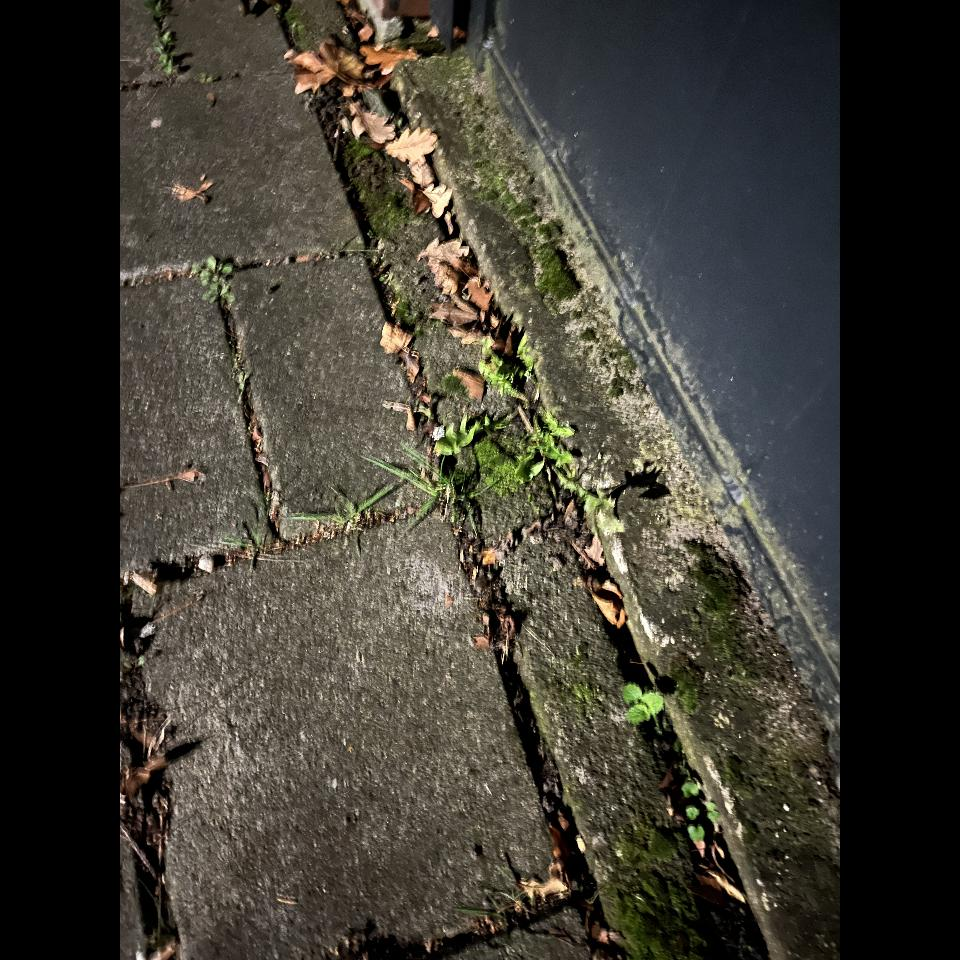weed: (474, 341, 601, 507)
